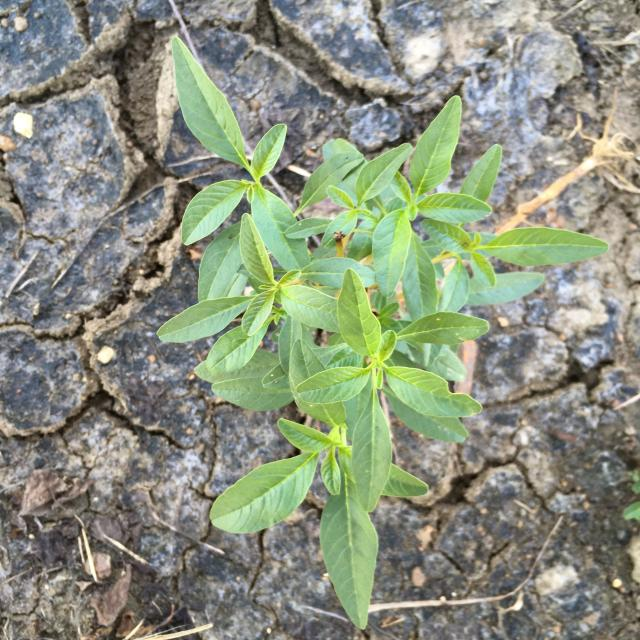Waterhemp: (156, 36, 611, 630)
